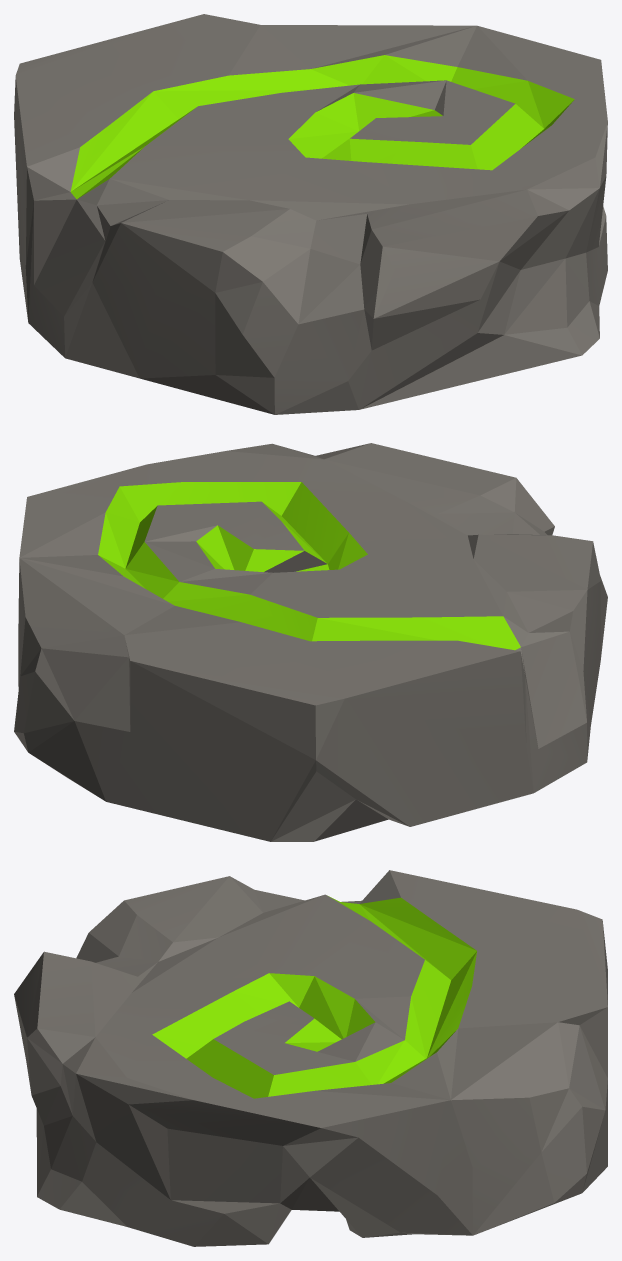
Rendered from SM_Env_Rounded_C_01.glb.
3 views of the same model, one above another, from view 1: azimuth 30°, elevation 25°; view 2: azimuth 150°, elevation 25°; view 3: azimuth 270°, elevation 25° (orthographic). The views are drawn at different scales.
Visible parts, largest first — view 1: SM_Env_Rounded_C_01; view 2: SM_Env_Rounded_C_01; view 3: SM_Env_Rounded_C_01.
Boxes of the visible parts, x1,y1,x2,y2 form: SM_Env_Rounded_C_01: (14,14,607,414); SM_Env_Rounded_C_01: (14,443,607,841); SM_Env_Rounded_C_01: (14,870,607,1246).
Size of the model in its own units: 2.65 by 0.7049 by 2.5.
1 material, 1 textured.
